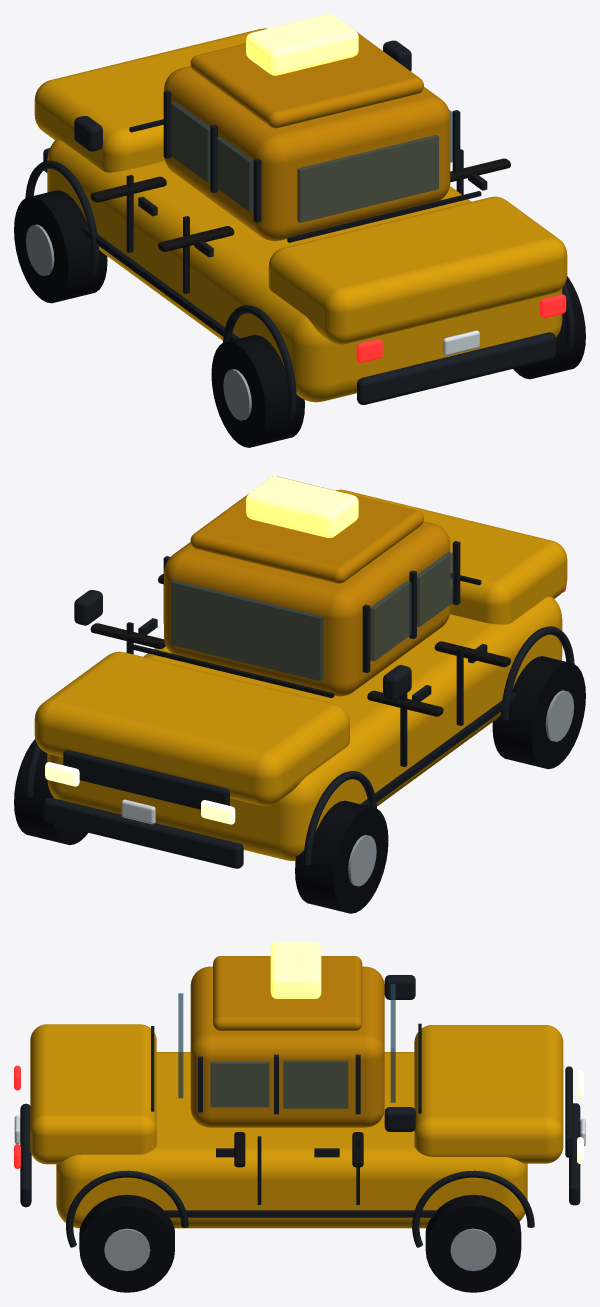
File: taxi_near.glb
3 renders of one model, top to bottom at view 1: azimuth 30°, elevation 25°; view 2: azimuth 150°, elevation 25°; view 3: azimuth 270°, elevation 25°, orthographic. The views are drawn at different scales.
Visible parts, largest first — view 1: taxi_near_rounded_passenger_cabin_body_panel, taxi_near_rounded_sedan_lower_body_panel, taxi_near_rear_trunk_deck_body_panel_with_soft_bevel, taxi_near_front_hood_body_panel_with_soft_bevel, taxi_near_subtle_roof_panel_bevel, taxi_near_rear_window_glass, taxi_near_rear_left_wheel_tire, taxi_near_front_left_wheel_tire, taxi_near_rear_bumper_dark_trim, taxi_near_illuminated_taxi_roof_sign, taxi_near_left_front_door_window_glass, taxi_near_left_rear_door_window_glass (+15 smaller); view 2: taxi_near_rounded_passenger_cabin_body_panel, taxi_near_front_hood_body_panel_with_soft_bevel, taxi_near_rounded_sedan_lower_body_panel, taxi_near_subtle_roof_panel_bevel, taxi_near_front_windshield_glass, taxi_near_rear_trunk_deck_body_panel_with_soft_bevel, taxi_near_front_left_wheel_tire, taxi_near_rear_left_wheel_tire, taxi_near_front_lower_air_intake_body_panel_break, taxi_near_illuminated_taxi_roof_sign, taxi_near_front_grille_dark_trim, taxi_near_front_right_wheel_tire (+18 smaller); view 3: taxi_near_rounded_sedan_lower_body_panel, taxi_near_rounded_passenger_cabin_body_panel, taxi_near_front_hood_body_panel_with_soft_bevel, taxi_near_rear_trunk_deck_body_panel_with_soft_bevel, taxi_near_subtle_roof_panel_bevel, taxi_near_front_right_wheel_tire, taxi_near_rear_right_wheel_tire, taxi_near_right_front_door_window_glass, taxi_near_illuminated_taxi_roof_sign, taxi_near_right_rear_door_window_glass, taxi_near_right_lower_rocker_body_panel_break, taxi_near_front_right_wheel_outer_hub (+10 smaller).
Part boxes in pixels (x1=…): taxi_near_rounded_passenger_cabin_body_panel: x1=164, y1=66, x2=450, y2=241; taxi_near_rounded_sedan_lower_body_panel: x1=47, y1=139, x2=562, y2=402; taxi_near_rear_trunk_deck_body_panel_with_soft_bevel: x1=268, y1=196, x2=567, y2=344; taxi_near_front_hood_body_panel_with_soft_bevel: x1=34, y1=28, x2=267, y2=172; taxi_near_subtle_roof_panel_bevel: x1=190, y1=31, x2=423, y2=128; taxi_near_rear_window_glass: x1=297, y1=135, x2=438, y2=222; taxi_near_rear_left_wheel_tire: x1=211, y1=335, x2=304, y2=447; taxi_near_front_left_wheel_tire: x1=14, y1=190, x2=107, y2=303; taxi_near_rear_bumper_dark_trim: x1=357, y1=332, x2=556, y2=404; taxi_near_illuminated_taxi_roof_sign: x1=246, y1=14, x2=358, y2=75; taxi_near_left_front_door_window_glass: x1=170, y1=102, x2=210, y2=182; taxi_near_left_rear_door_window_glass: x1=215, y1=136, x2=253, y2=211; taxi_near_rounded_passenger_cabin_body_panel: x1=164, y1=521, x2=450, y2=696; taxi_near_front_hood_body_panel_with_soft_bevel: x1=34, y1=651, x2=349, y2=805; taxi_near_rounded_sedan_lower_body_panel: x1=47, y1=596, x2=562, y2=860; taxi_near_subtle_roof_panel_bevel: x1=190, y1=476, x2=423, y2=583; taxi_near_front_windshield_glass: x1=171, y1=580, x2=323, y2=681; taxi_near_rear_trunk_deck_body_panel_with_soft_bevel: x1=336, y1=489, x2=567, y2=624; taxi_near_front_left_wheel_tire: x1=295, y1=800, x2=388, y2=913; taxi_near_rear_left_wheel_tire: x1=492, y1=656, x2=585, y2=769; taxi_near_front_lower_air_intake_body_panel_break: x1=43, y1=797, x2=243, y2=868; taxi_near_illuminated_taxi_roof_sign: x1=246, y1=476, x2=358, y2=537; taxi_near_front_grille_dark_trim: x1=63, y1=750, x2=229, y2=809; taxi_near_front_right_wheel_tire: x1=14, y1=739, x2=87, y2=845; taxi_near_rounded_sedan_lower_body_panel: x1=56, y1=1052, x2=527, y2=1228; taxi_near_rounded_passenger_cabin_body_panel: x1=190, y1=966, x2=384, y2=1127; taxi_near_front_hood_body_panel_with_soft_bevel: x1=414, y1=1025, x2=563, y2=1163; taxi_near_rear_trunk_deck_body_panel_with_soft_bevel: x1=30, y1=1024, x2=156, y2=1164; taxi_near_subtle_roof_panel_bevel: x1=213, y1=956, x2=362, y2=1030; taxi_near_front_right_wheel_tire: x1=425, y1=1194, x2=521, y2=1292; taxi_near_rear_right_wheel_tire: x1=79, y1=1194, x2=174, y2=1292; taxi_near_right_front_door_window_glass: x1=283, y1=1060, x2=348, y2=1108; taxi_near_illuminated_taxi_roof_sign: x1=270, y1=942, x2=321, y2=998; taxi_near_right_rear_door_window_glass: x1=210, y1=1062, x2=269, y2=1107; taxi_near_right_lower_rocker_body_panel_break: x1=163, y1=1210, x2=437, y2=1217; taxi_near_front_right_wheel_outer_hub: x1=450, y1=1228, x2=496, y2=1271.
Bounding box in the file's own units: 2.51 × 2.08 × 4.06.
